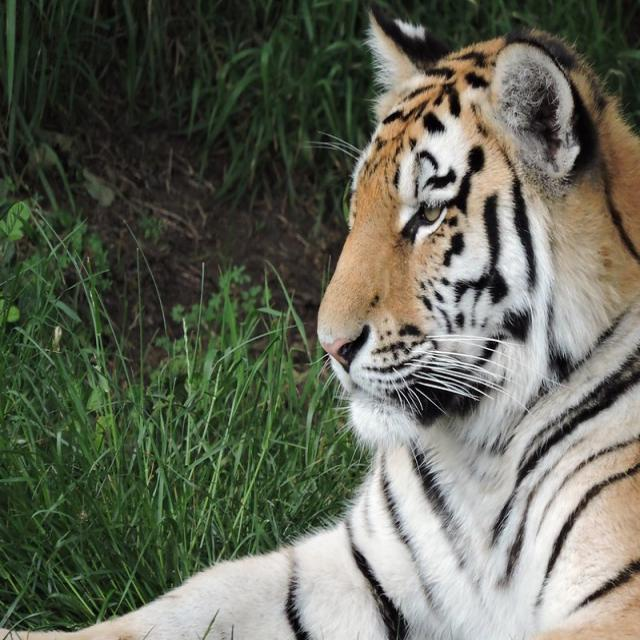Tiger: (6, 5, 640, 637)
